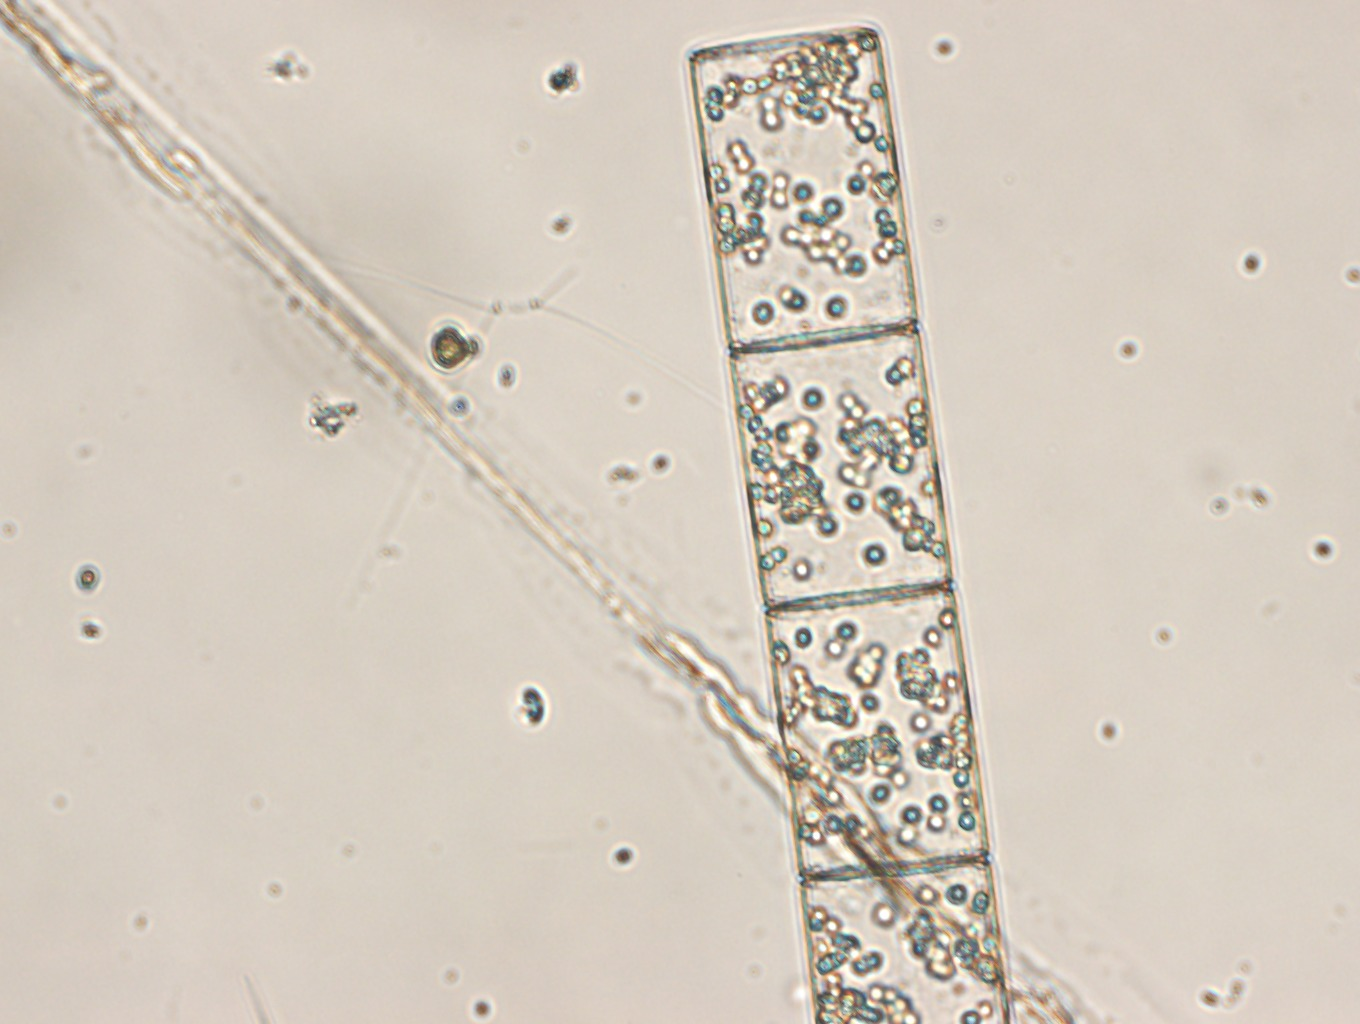guinardia flaccida: (684, 22, 1008, 1024)
